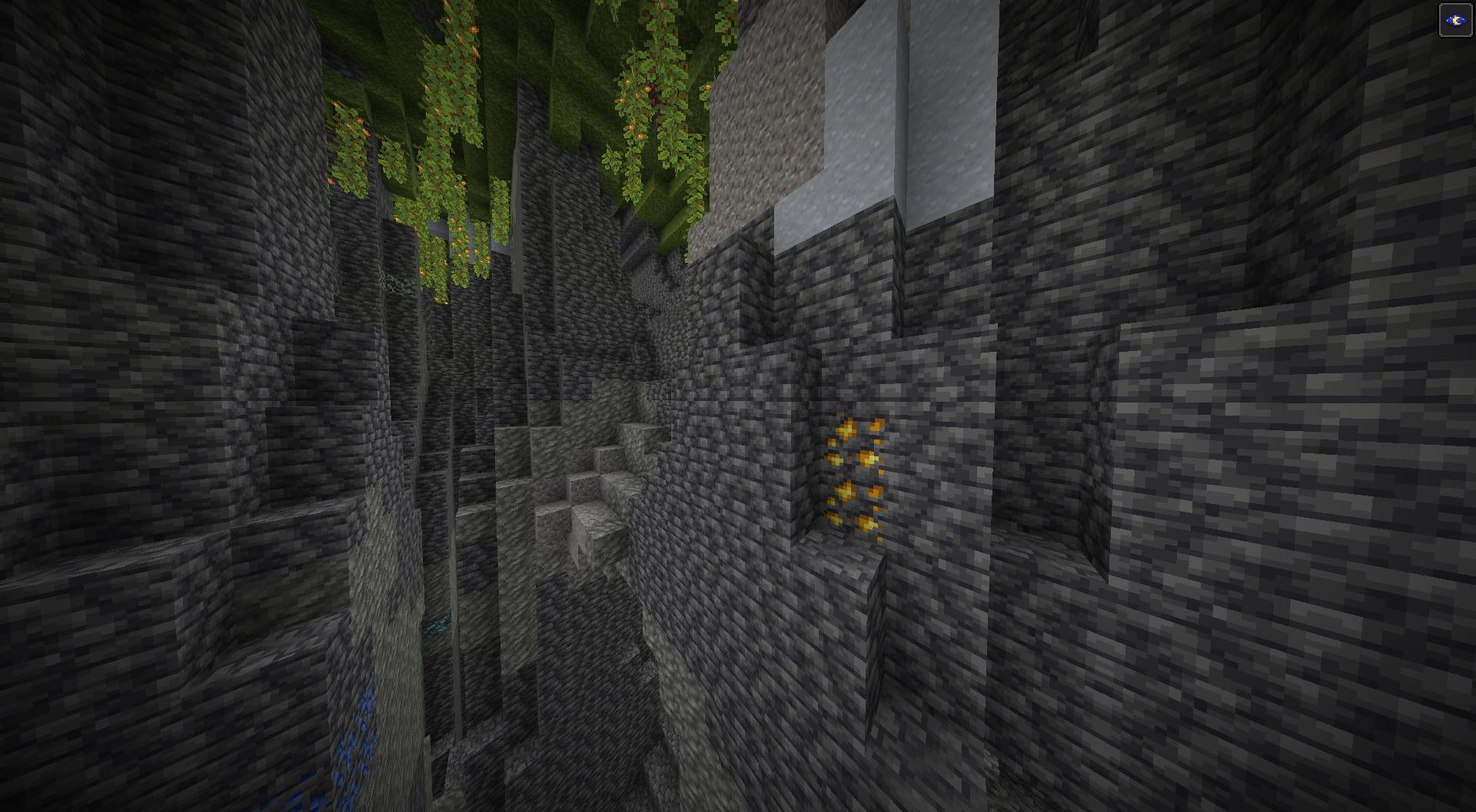diamond ore: (422, 609, 458, 639)
gold ore: (819, 473, 888, 543), (817, 408, 887, 474)
